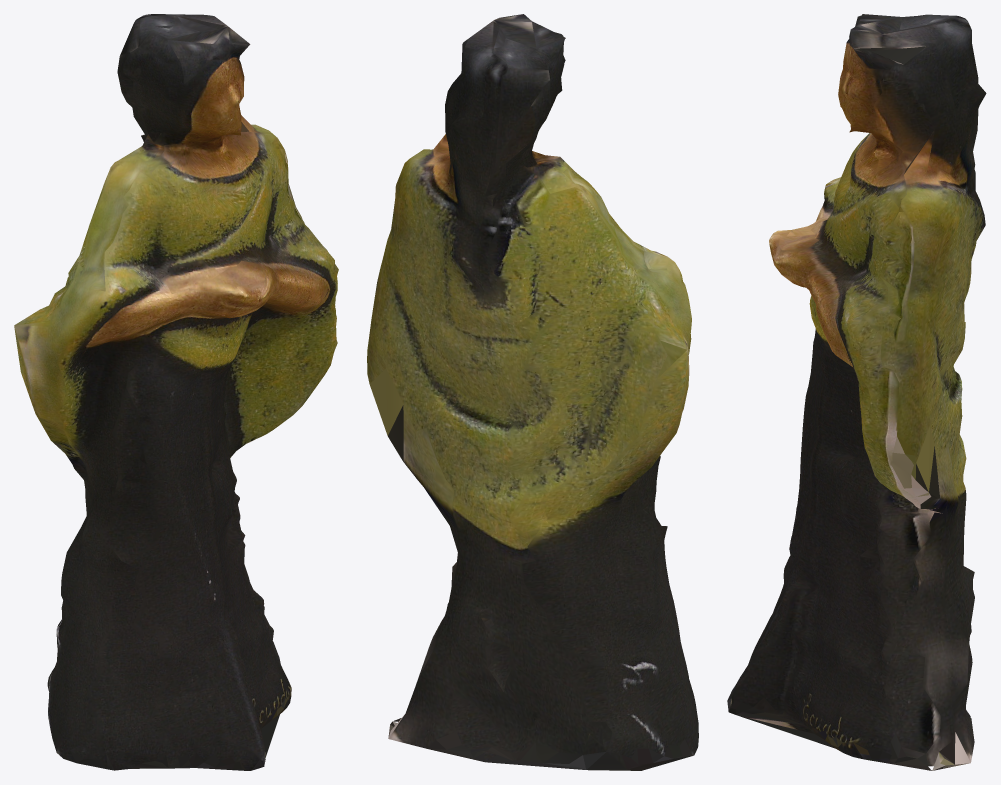
The picture shows the model from 3 angles, left to right: view 1: azimuth 30°, elevation 25°; view 2: azimuth 150°, elevation 25°; view 3: azimuth 270°, elevation 25°; orthographic projection. The views are drawn at different scales.
Parts seen in each view (by area): view 1: Stereo textured mesh; view 2: Stereo textured mesh; view 3: Stereo textured mesh.
Part boxes in pixels (left/top/right/bottom): Stereo textured mesh: left=14, top=14, right=338, bottom=770; Stereo textured mesh: left=367, top=14, right=698, bottom=770; Stereo textured mesh: left=727, top=14, right=986, bottom=770.
Bounding box in the file's own units: 482 × 1000 × 336.
Materials: 2 (2 with a texture image).
